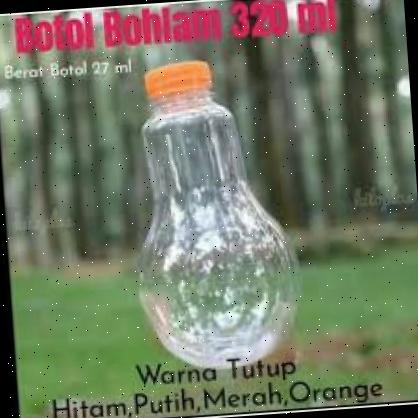bottle: (111, 47, 340, 398)
cap: (140, 59, 218, 100)
